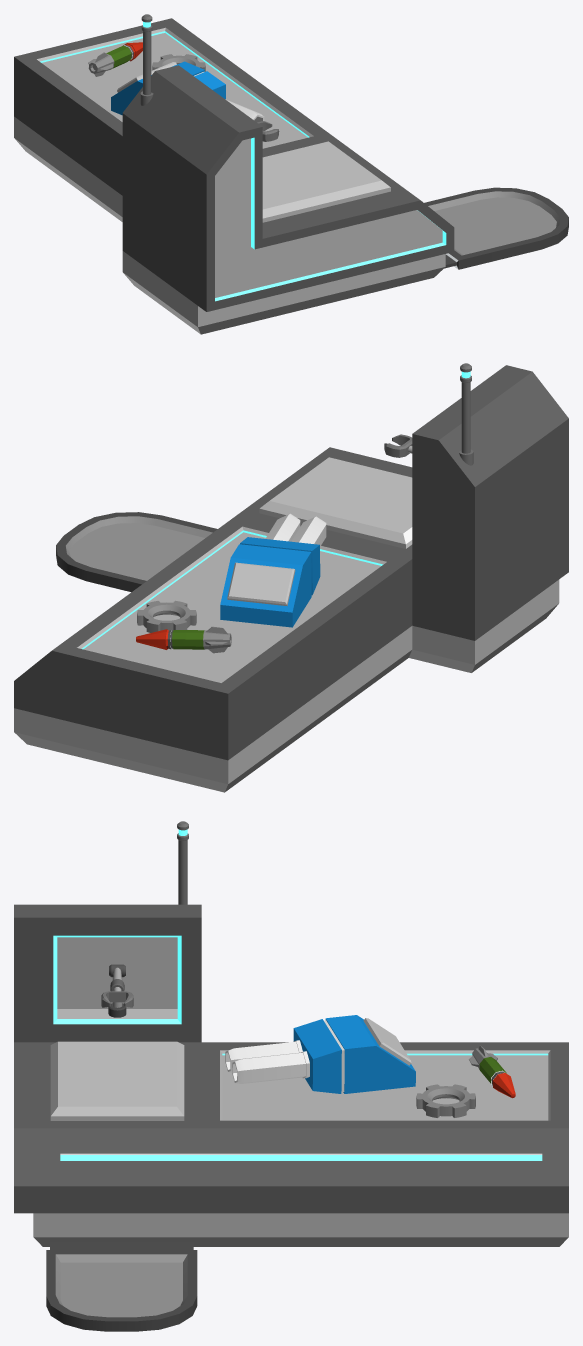
The model's file is Upgrade_Station2.fbx.
3 views of the same model, one above another, from view 1: azimuth 30°, elevation 25°; view 2: azimuth 150°, elevation 25°; view 3: azimuth 270°, elevation 25° (orthographic). The views are drawn at different scales.
Visible parts, largest first — view 1: UpgradeStation_main, UpgradeStation_floor, UpgradeStation_turret_head, UpgradeStation_missile, UpgradeStation_antenna, UpgradeStation_gear; view 2: UpgradeStation_main, UpgradeStation_turret_head, UpgradeStation_floor, UpgradeStation_missile, UpgradeStation_gear, UpgradeStation_antenna; view 3: UpgradeStation_main, UpgradeStation_floor, UpgradeStation_turret_head, UpgradeStation_gear, UpgradeStation_missile, UpgradeStation_antenna, UpgradeStation_claw_arm.
Part boxes in pixels (x1,y1,x2,y2): UpgradeStation_main: [14, 18, 454, 334]; UpgradeStation_floor: [424, 187, 568, 269]; UpgradeStation_turret_head: [111, 61, 264, 122]; UpgradeStation_missile: [88, 42, 142, 76]; UpgradeStation_antenna: [140, 14, 153, 105]; UpgradeStation_gear: [152, 54, 205, 71]; UpgradeStation_main: [14, 365, 568, 792]; UpgradeStation_turret_head: [220, 513, 326, 627]; UpgradeStation_floor: [56, 512, 217, 592]; UpgradeStation_missile: [136, 626, 231, 653]; UpgradeStation_gear: [137, 600, 196, 632]; UpgradeStation_antenna: [459, 363, 473, 465]; UpgradeStation_main: [14, 904, 568, 1246]; UpgradeStation_floor: [46, 1241, 197, 1331]; UpgradeStation_turret_head: [225, 1015, 415, 1093]; UpgradeStation_gear: [416, 1084, 475, 1117]; UpgradeStation_missile: [469, 1045, 515, 1098]; UpgradeStation_antenna: [177, 821, 188, 904]; UpgradeStation_claw_arm: [101, 967, 133, 1007].
Bounding box in the file's own units: 6.07 × 3.96 × 6.59.
Materials: 1 (1 with a texture image).
